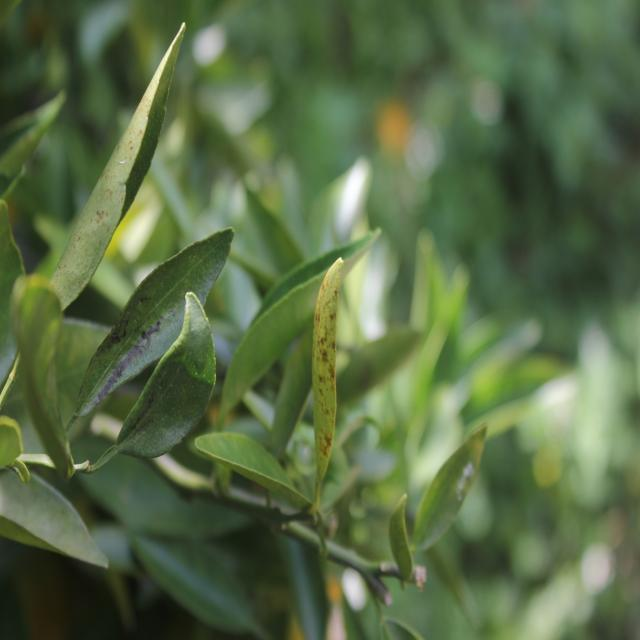melanose: (22, 17, 188, 319), (66, 220, 244, 422), (299, 254, 350, 496)
